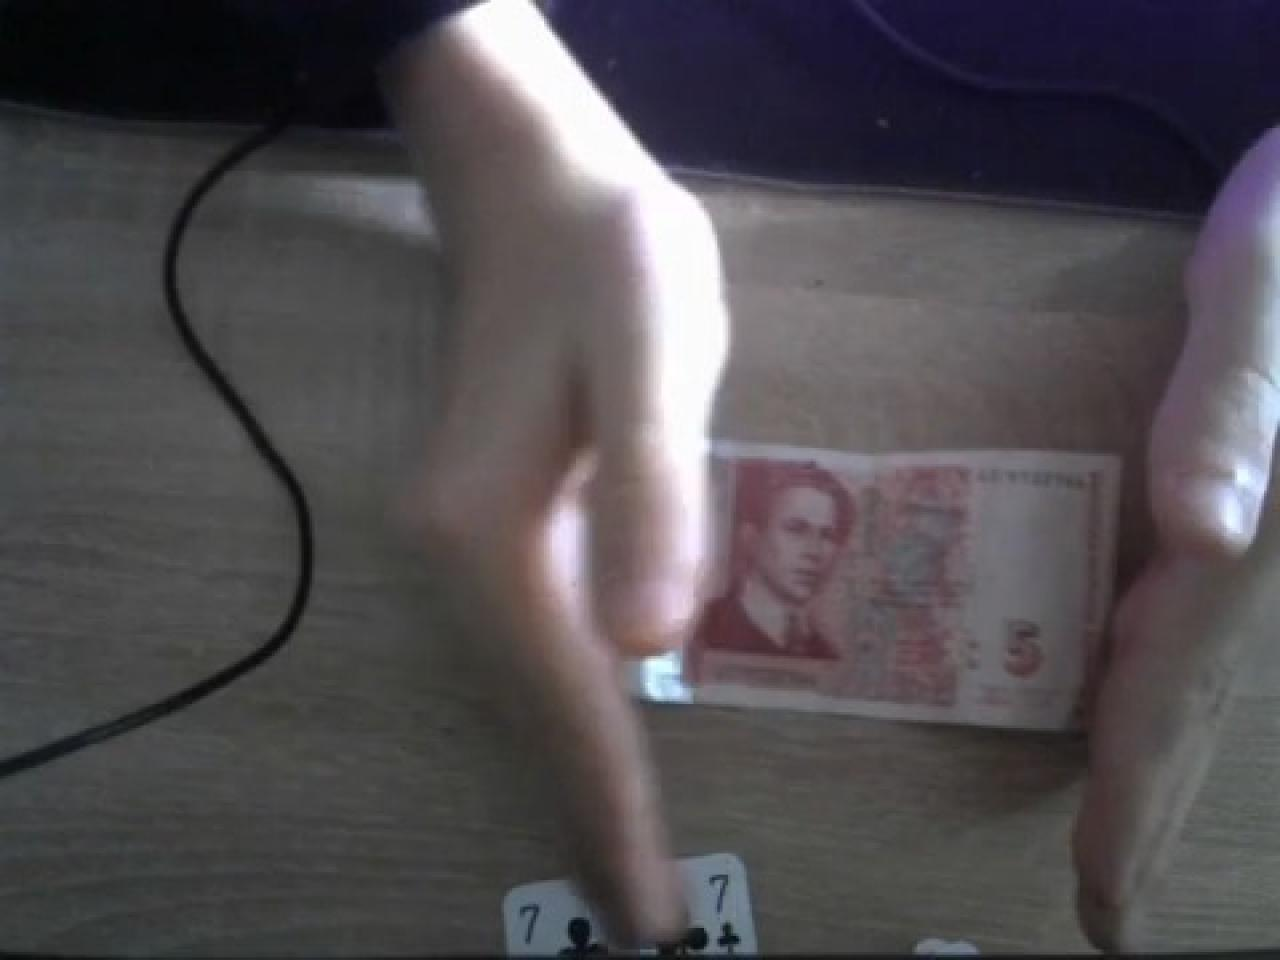5leva: (680, 443, 1128, 739)
